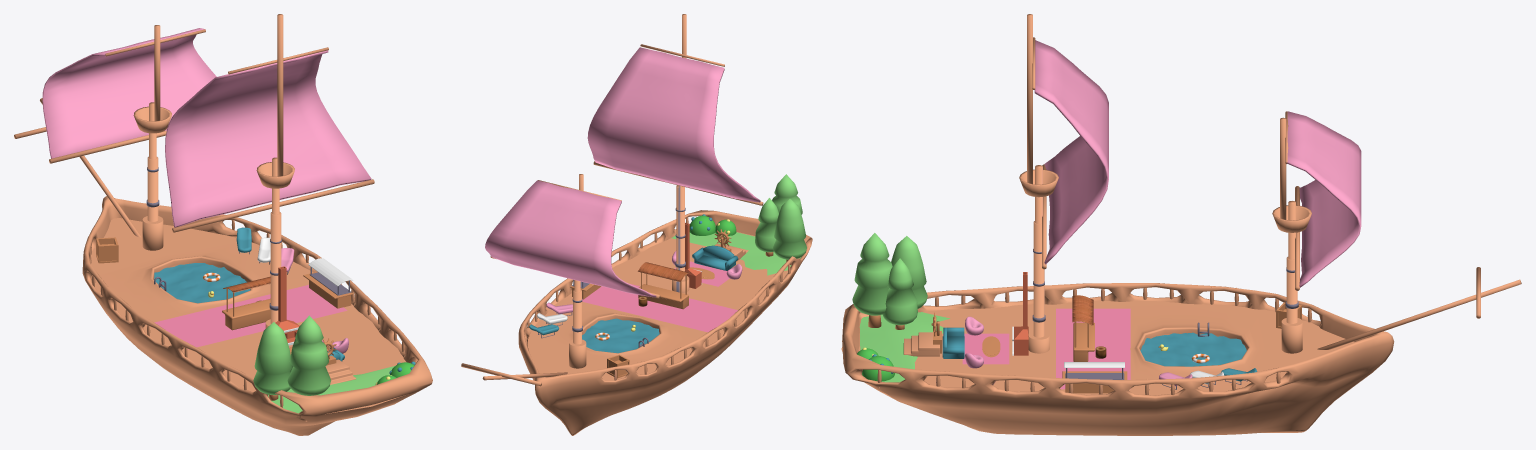
Rendered from shipdeck-1-unityprep_SimpleBakeExport.fbx.
3 renders of one model, left to right at view 1: azimuth 30°, elevation 25°; view 2: azimuth 150°, elevation 25°; view 3: azimuth 270°, elevation 25°, orthographic. The views are drawn at different scales.
Parts seen in each view (by area): view 1: mast_Baked, Sphere.012_Baked, Plane_Baked, Cube.012_Baked, Cube.003_Baked, Cube.011_Baked, Torus.001_Baked, Cube.009_Baked; view 2: mast_Baked, Sphere.012_Baked, Plane_Baked, Cube.003_Baked, Cylinder.031_Baked, Cube.011_Baked, Torus.001_Baked; view 3: mast_Baked, Sphere.012_Baked, Plane_Baked, Cube.003_Baked, Cube.012_Baked, Torus.001_Baked, Cube.011_Baked, Cylinder.031_Baked.
Boxes of the visible parts, <box> form: mast_Baked: <box>14,14,432,435</box>; Sphere.012_Baked: <box>253,315,415,413</box>; Plane_Baked: <box>154,263,250,303</box>; Cube.012_Baked: <box>303,258,352,308</box>; Cube.003_Baked: <box>222,276,270,330</box>; Cube.011_Baked: <box>275,266,299,345</box>; Torus.001_Baked: <box>323,338,356,384</box>; Cube.009_Baked: <box>96,237,118,263</box>; mast_Baked: <box>461,14,812,435</box>; Sphere.012_Baked: <box>671,174,806,275</box>; Plane_Baked: <box>582,318,659,353</box>; Cube.003_Baked: <box>638,262,688,309</box>; Cylinder.031_Baked: <box>692,245,738,270</box>; Cube.011_Baked: <box>685,222,702,288</box>; Torus.001_Baked: <box>714,229,748,261</box>; mast_Baked: <box>841,14,1521,435</box>; Sphere.012_Baked: <box>852,233,949,382</box>; Plane_Baked: <box>1140,332,1246,366</box>; Cube.003_Baked: <box>1072,295,1094,361</box>; Cube.012_Baked: <box>1062,362,1127,393</box>; Torus.001_Baked: <box>903,312,941,356</box>; Cube.011_Baked: <box>1012,272,1028,355</box>; Cylinder.031_Baked: <box>942,327,964,358</box>.
Size of the model in its own units: 3242 by 6243 by 9218.
Materials: 17 (17 with a texture image).
